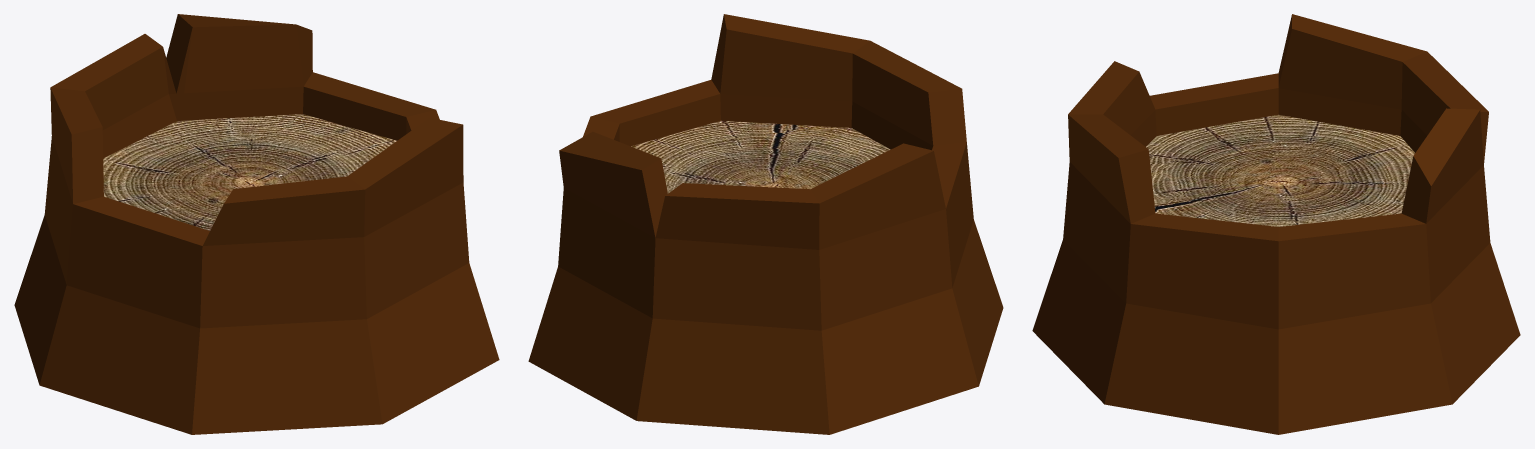
Rendered from stump.glb.
3 views of the same model, side by side, from view 1: azimuth 30°, elevation 25°; view 2: azimuth 150°, elevation 25°; view 3: azimuth 270°, elevation 25° (orthographic). The views are drawn at different scales.
Visible parts, largest first — view 1: stump; view 2: stump; view 3: stump.
Part boxes in pixels (bbox=[...]): stump: bbox=[14, 14, 499, 434]; stump: bbox=[528, 14, 1003, 434]; stump: bbox=[1032, 14, 1520, 434].
Bounding box in the file's own units: 0.4611 × 0.2404 × 0.4573.
Materials: 2 (1 with a texture image).
